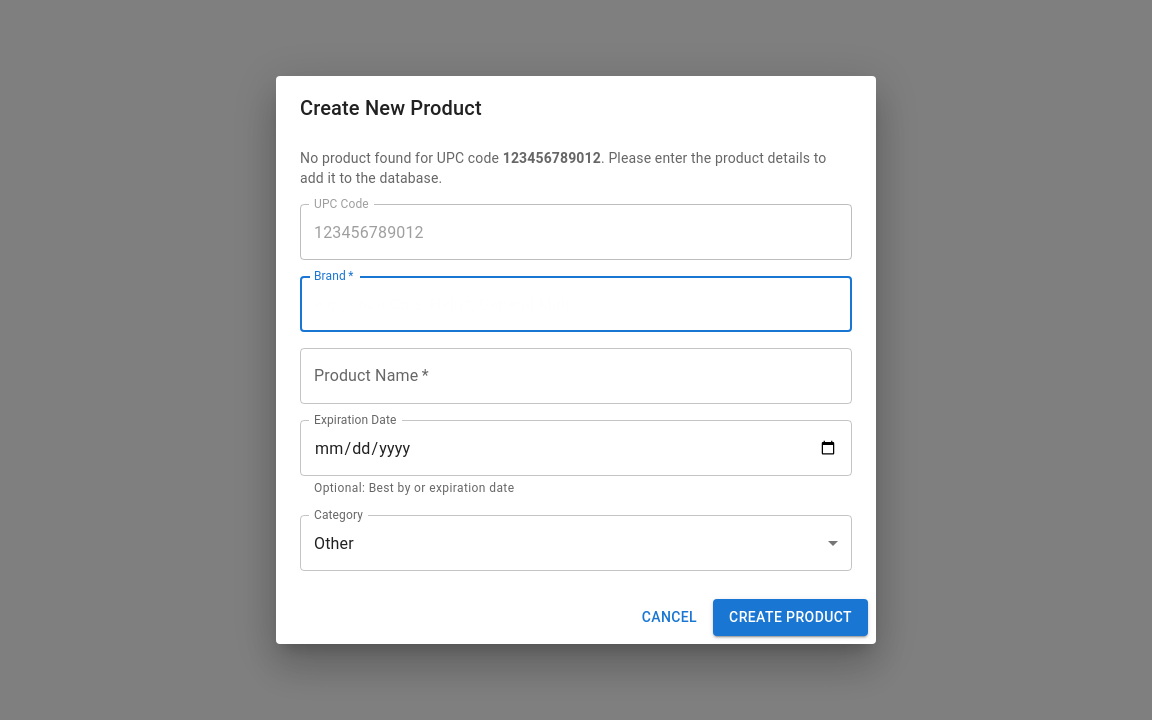
Test: CreateProductDialog › shows validation error when product name is empty
Type "Test Brand" into the field labelled "Brand *" at x=576, y=304, box top-left (300, 276), bottom-right (852, 332)
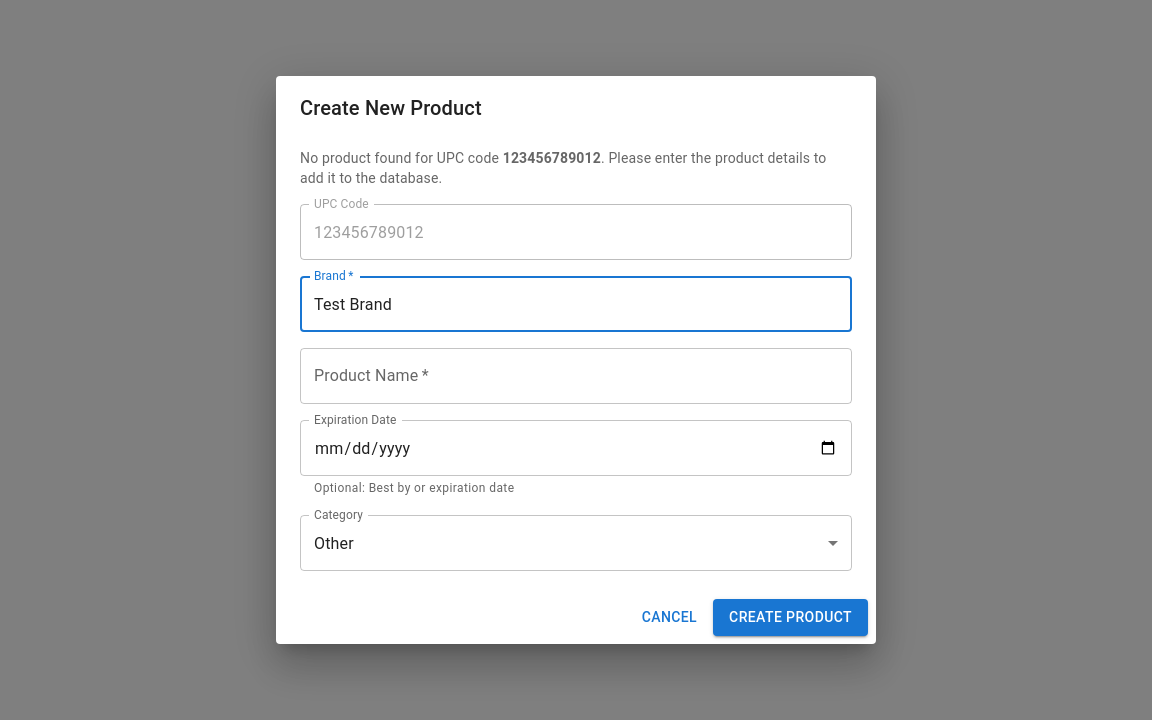
Click the button with test id "create-product-submit-button" at x=791, y=617, box top-left (713, 599), bottom-right (868, 636)
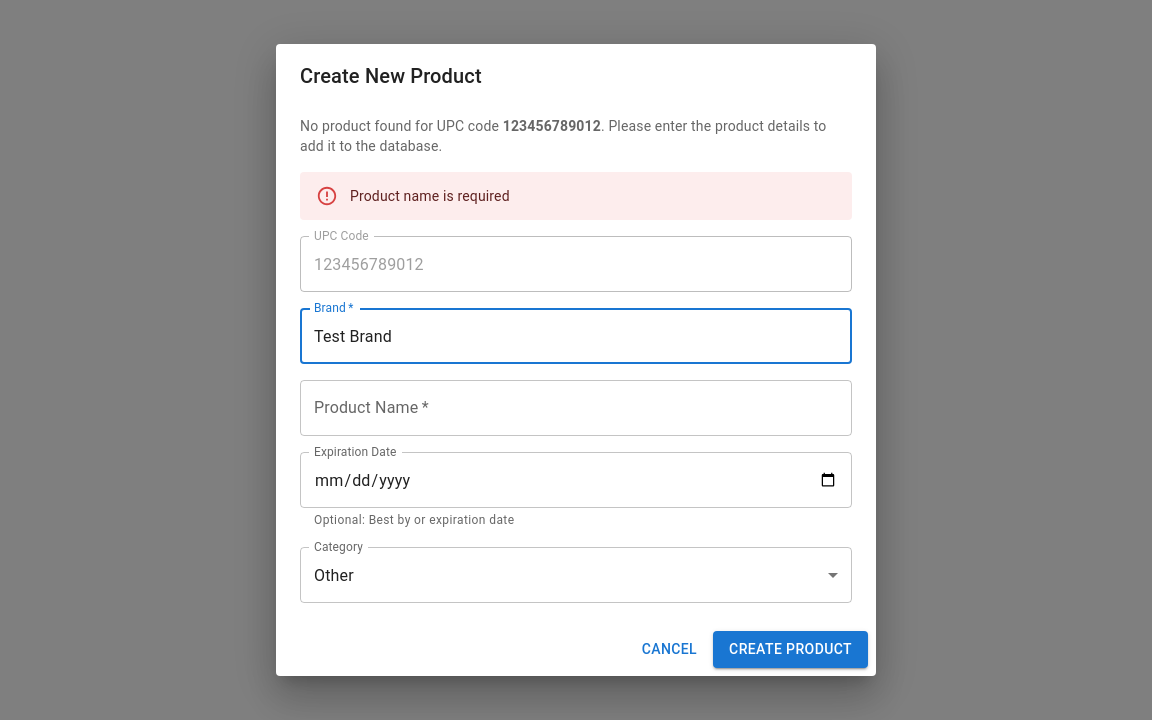
Check: the text "Product name is required" is shown, box top-left (350, 188), bottom-right (510, 204)
